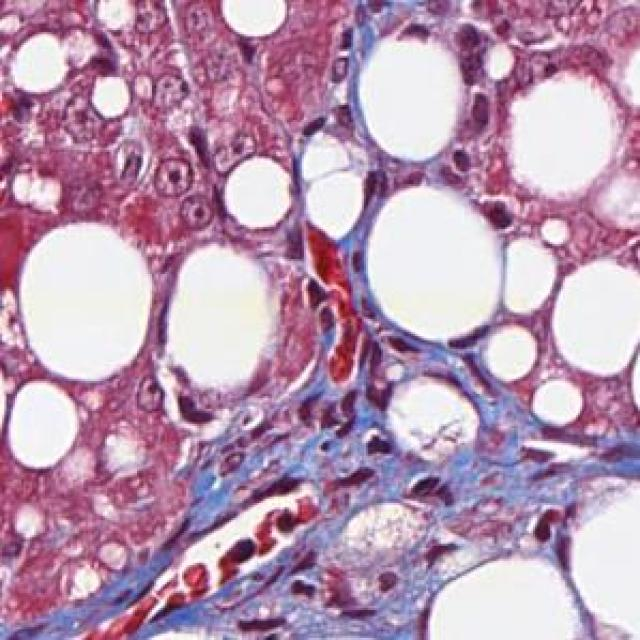ballooning: (156, 231, 300, 415), (351, 30, 477, 175), (381, 366, 488, 469)
